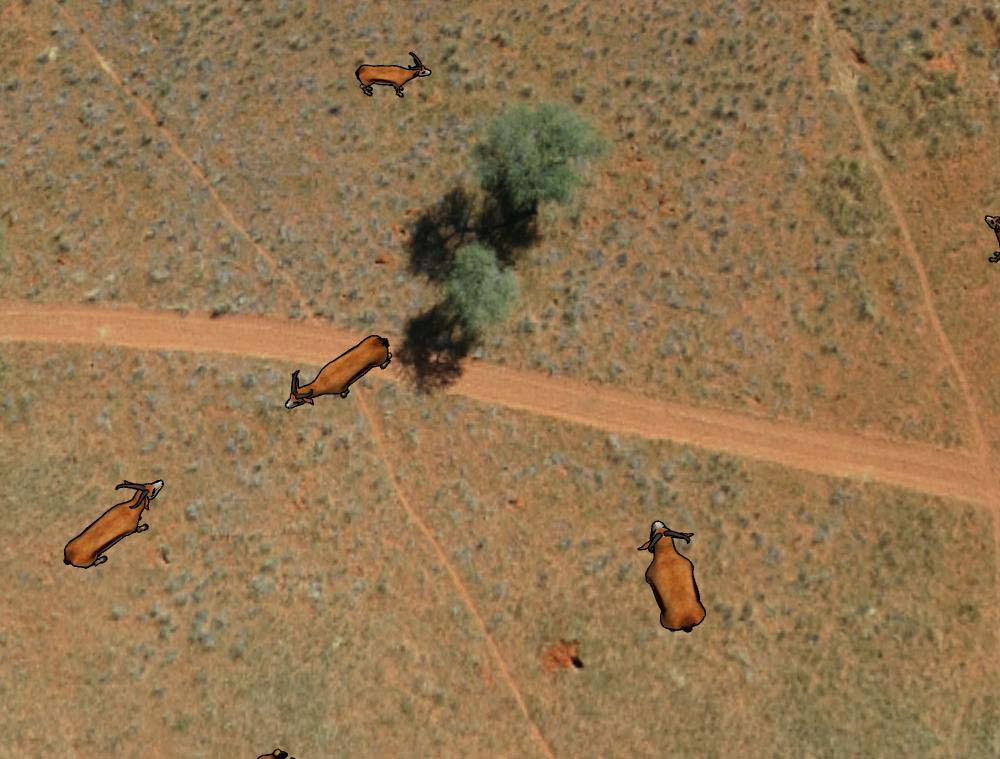springbok: (61, 476, 166, 572), (633, 517, 712, 637), (281, 330, 394, 409), (352, 48, 433, 102)
